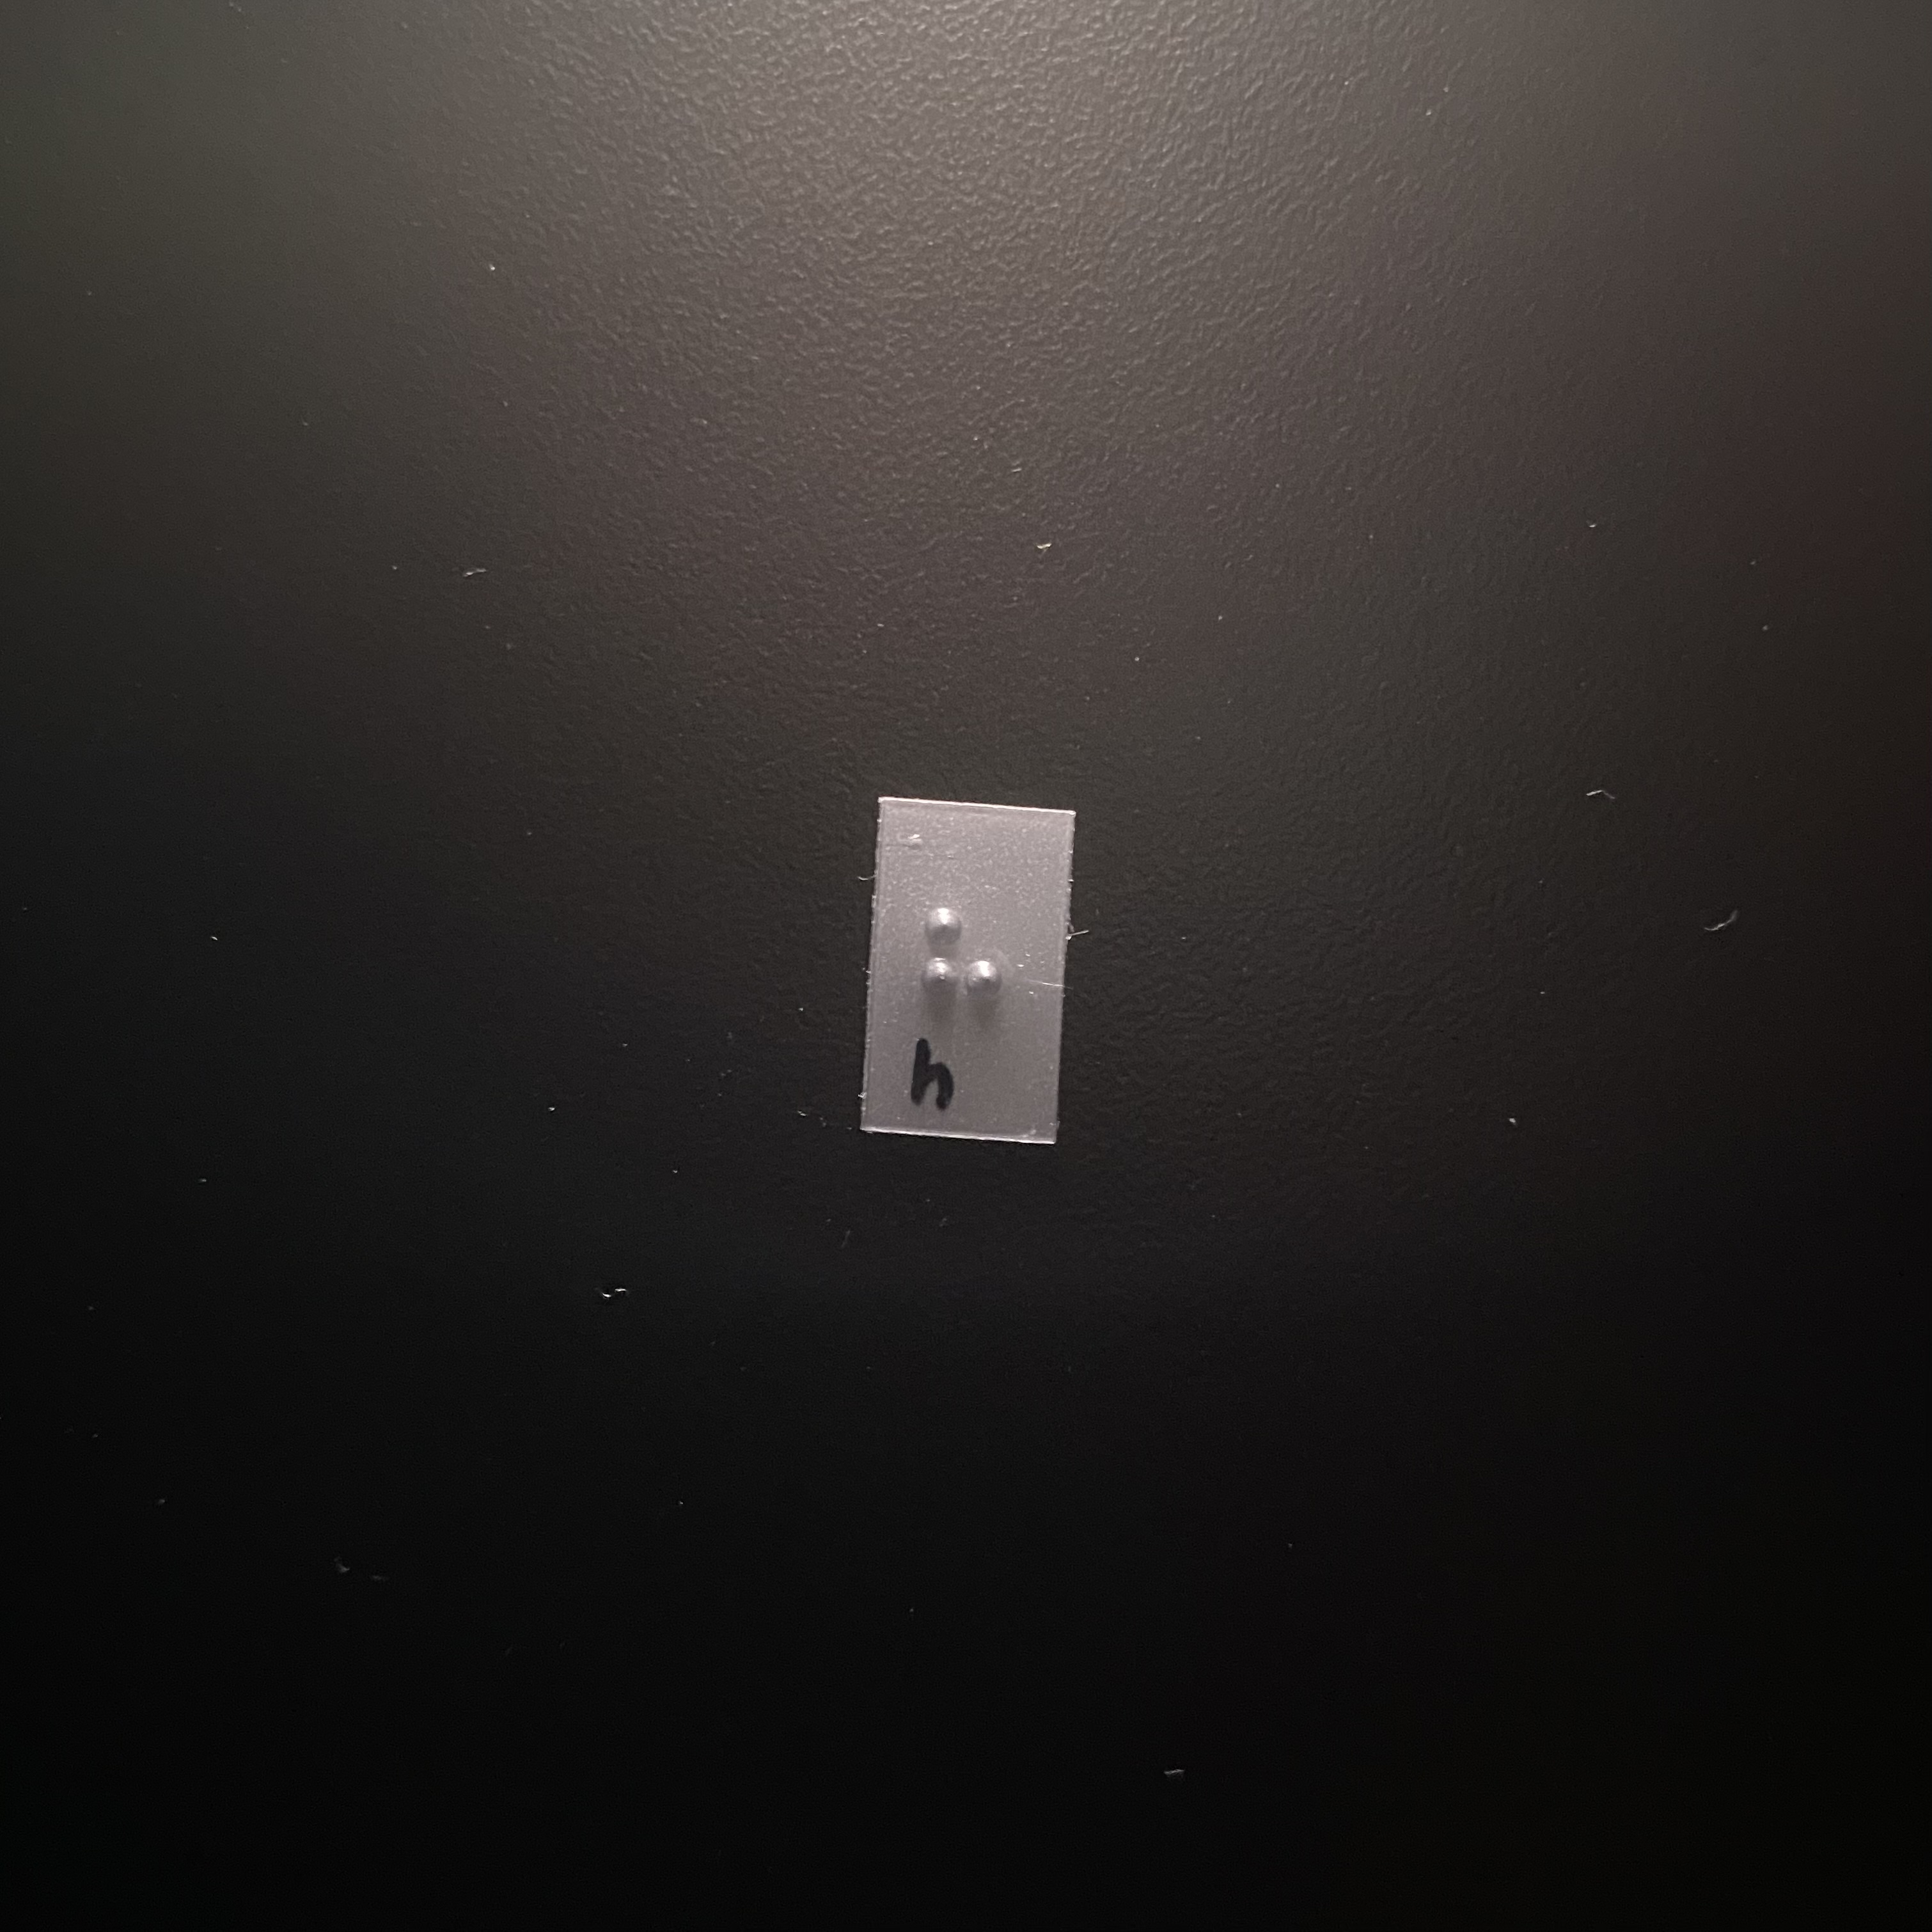h: (911, 887, 1021, 1059)
